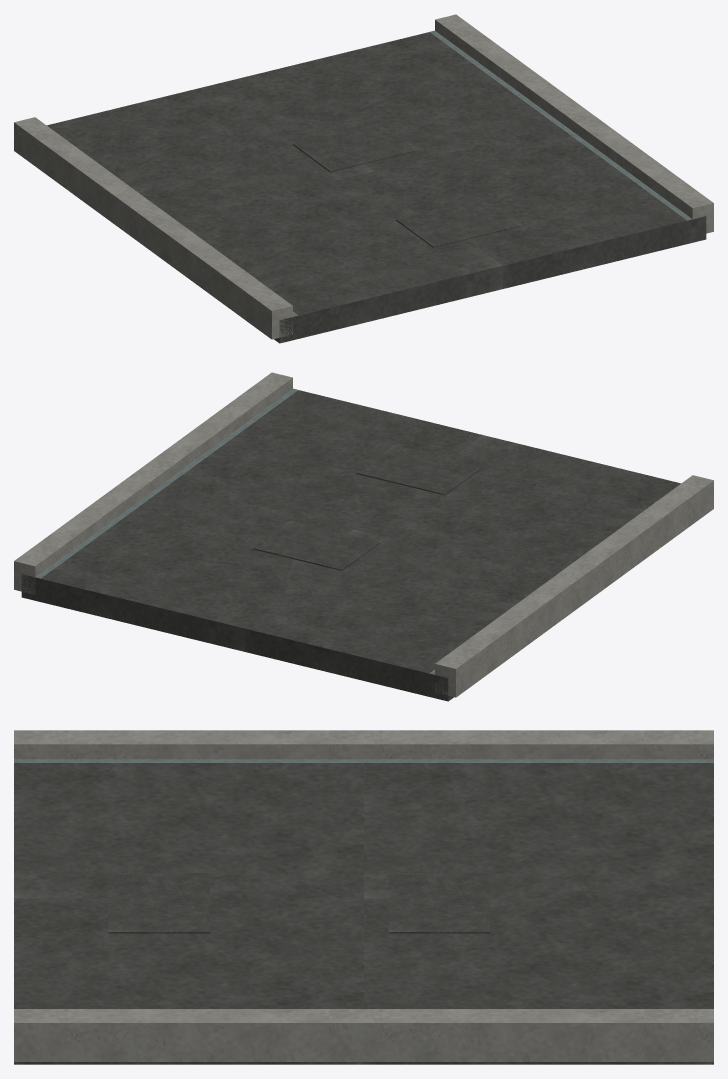
File: PZ_Alley_Lane_Asphalt_4M.glb
3 renders of one model, top to bottom at view 1: azimuth 30°, elevation 25°; view 2: azimuth 150°, elevation 25°; view 3: azimuth 270°, elevation 25°, orthographic. The views are drawn at different scales.
Parts seen in each view (by area): view 1: A_Roadbed, A_W_Curb, A_E_Curb, A_Patch_8, A_Patch_24, A_E_RunoffChannel; view 2: A_Roadbed, A_W_Curb, A_E_Curb, A_Patch_24, A_Patch_8, A_E_RunoffChannel; view 3: A_Roadbed, A_E_Curb, A_W_Curb, A_Patch_8, A_Patch_24, A_W_RunoffChannel.
Boxes of the visible parts, bbox=[...] form: A_Roadbed: bbox=[47, 32, 706, 343]; A_W_Curb: bbox=[14, 117, 292, 339]; A_E_Curb: bbox=[435, 14, 713, 233]; A_Patch_8: bbox=[396, 197, 522, 247]; A_Patch_24: bbox=[293, 122, 419, 172]; A_E_RunoffChannel: bbox=[430, 30, 692, 220]; A_Roadbed: bbox=[21, 390, 680, 701]; A_W_Curb: bbox=[435, 475, 713, 697]; A_E_Curb: bbox=[14, 372, 292, 594]; A_Patch_24: bbox=[252, 520, 379, 570]; A_Patch_8: bbox=[356, 445, 482, 495]; A_E_RunoffChannel: bbox=[35, 388, 297, 578]; A_Roadbed: bbox=[14, 763, 713, 1064]; A_E_Curb: bbox=[14, 1009, 713, 1061]; A_W_Curb: bbox=[14, 730, 713, 759]; A_Patch_8: bbox=[108, 873, 209, 933]; A_Patch_24: bbox=[388, 873, 489, 933]; A_W_RunoffChannel: bbox=[14, 759, 713, 762].
Size of the model in its own units: 3.96 by 0.295 by 4.
3 materials, 3 textured.
